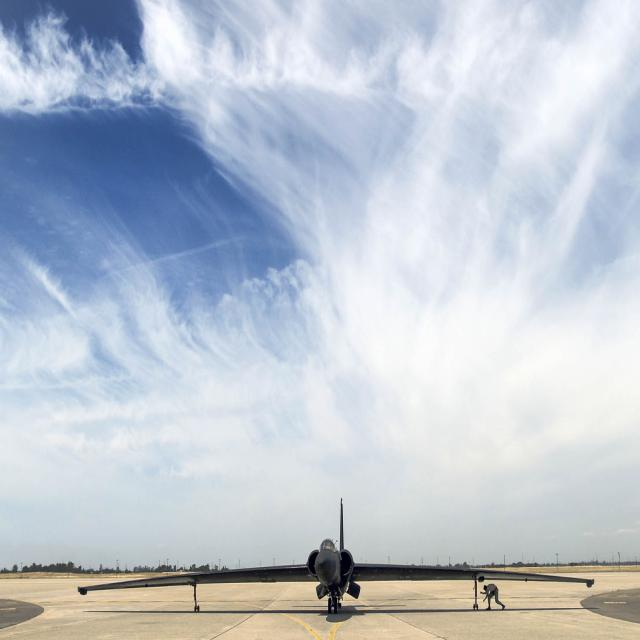MIL_Plane: (78, 496, 594, 614)
